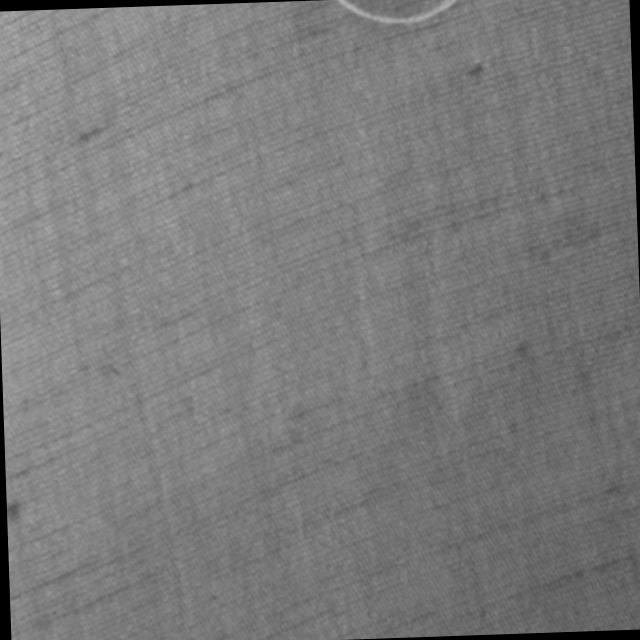objects: (335, 0, 467, 35)
